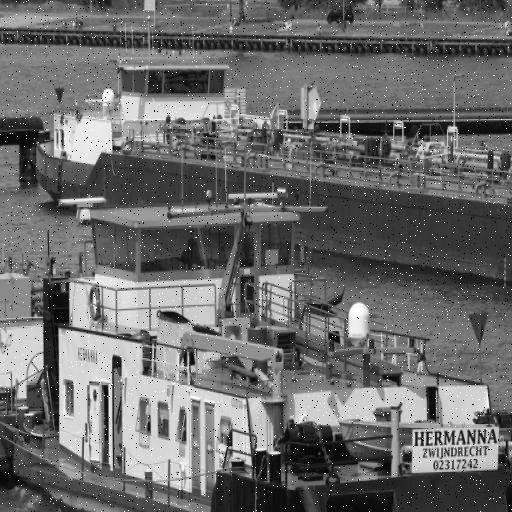tugboat: (10, 184, 512, 512)
